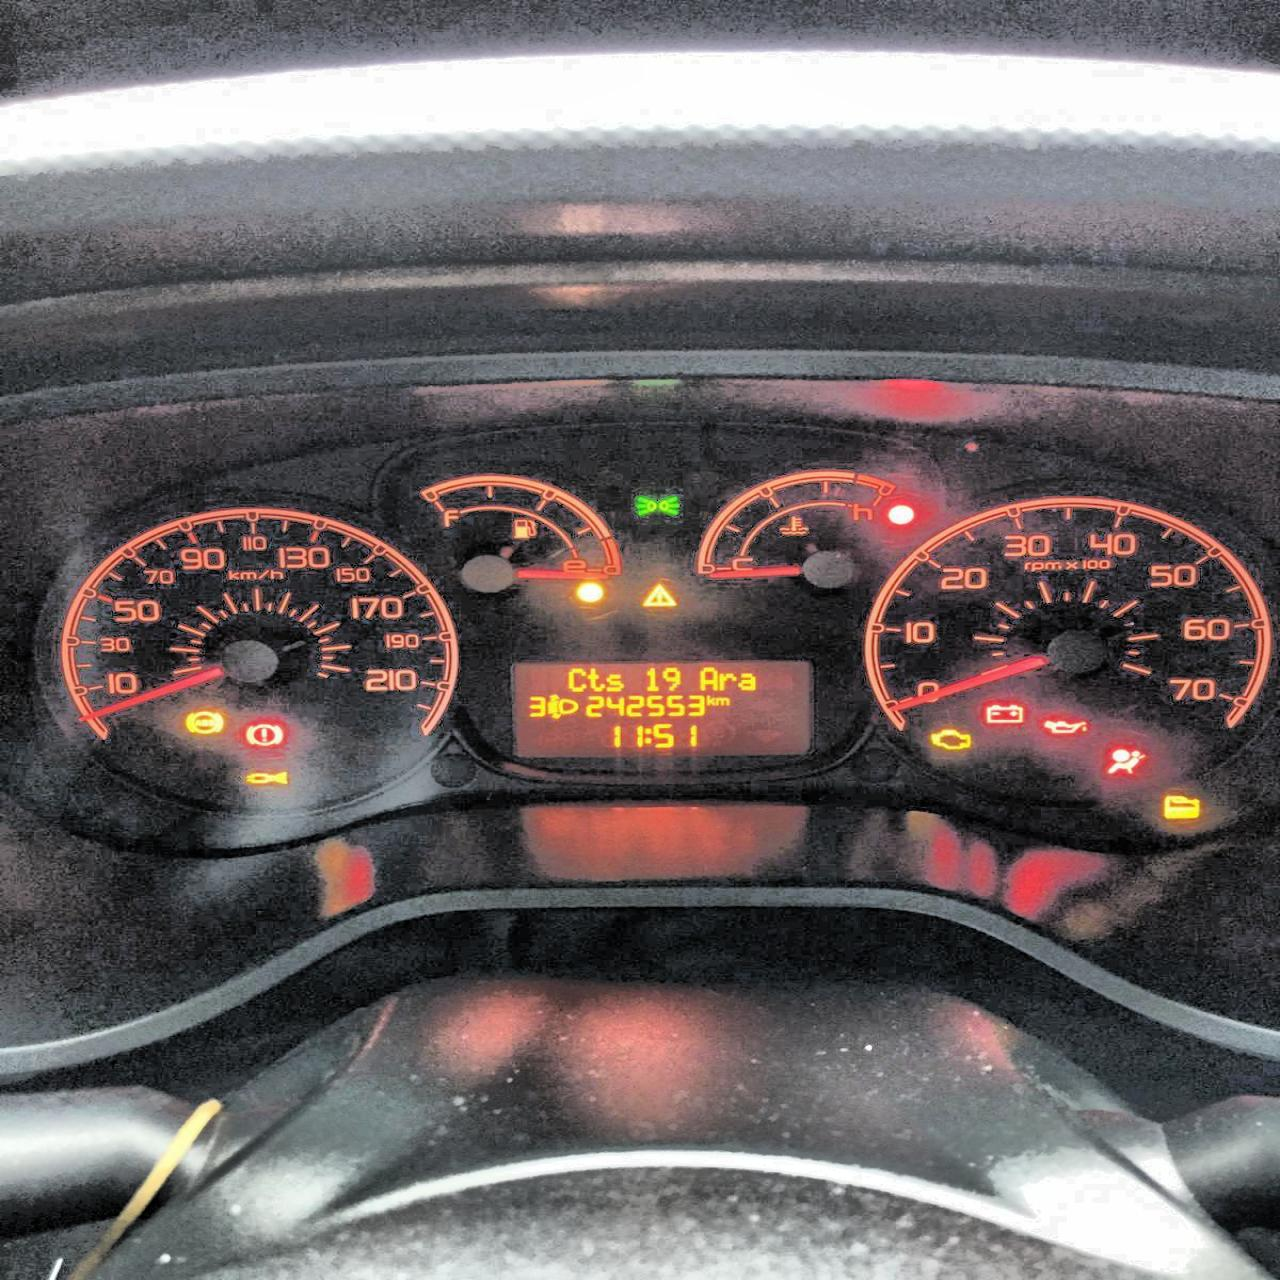1: (641, 666, 660, 693), (610, 722, 622, 748), (686, 722, 699, 748), (633, 723, 644, 748)
2: (583, 694, 604, 719), (625, 694, 644, 716)
3: (685, 693, 706, 716), (527, 694, 546, 717)
4: (604, 695, 622, 716)
5: (652, 722, 675, 748), (646, 694, 665, 716), (666, 694, 683, 716)
9: (661, 665, 682, 692)
X: (564, 666, 587, 693), (695, 665, 717, 692), (586, 666, 605, 692), (605, 672, 624, 692), (719, 670, 736, 692), (737, 670, 755, 692), (715, 695, 730, 706), (644, 727, 652, 744), (707, 693, 714, 707)
odometer: (509, 654, 816, 762)
